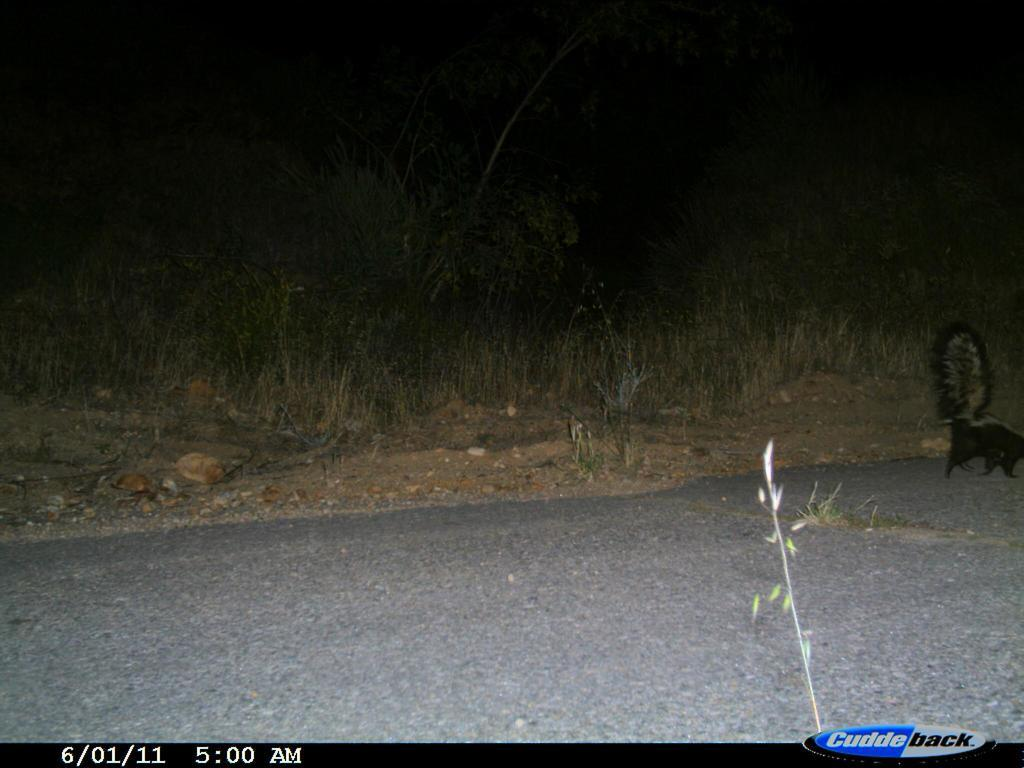skunk: (922, 315, 1023, 492)
